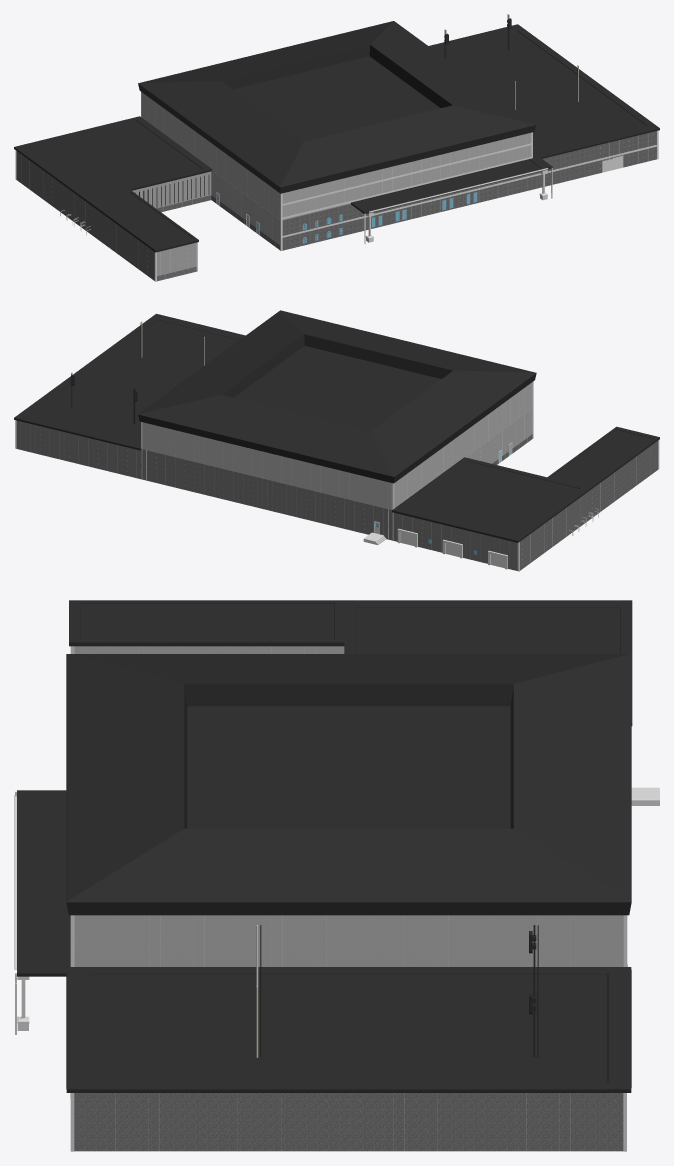
The model's file is superstore.lod0.glb.
The picture shows the model from 3 angles, top to bottom: view 1: azimuth 30°, elevation 25°; view 2: azimuth 150°, elevation 25°; view 3: azimuth 270°, elevation 25°; orthographic projection. The views are drawn at different scales.
Parts seen in each view (by area): view 1: Object_21, Object_5, Object_2, Object_8, Object_3, Object_17; view 2: Object_21, Object_2, Object_5, Object_17, Object_8; view 3: Object_21, Object_2, Object_5, Object_8.
Part boxes in pixels (x1,y1,x2,y2): Object_21: [14, 14, 659, 252]; Object_5: [132, 92, 531, 276]; Object_2: [16, 131, 656, 281]; Object_8: [15, 81, 658, 281]; Object_3: [217, 192, 477, 243]; Object_17: [60, 155, 623, 235]; Object_21: [14, 310, 659, 542]; Object_2: [17, 420, 658, 570]; Object_5: [142, 382, 532, 509]; Object_17: [363, 442, 598, 569]; Object_8: [15, 337, 659, 571]; Object_21: [17, 600, 632, 1092]; Object_2: [74, 1093, 623, 1151]; Object_5: [74, 646, 623, 966]; Object_8: [14, 646, 627, 1151].
Size of the model in its own units: 150 by 21.46 by 83.09.
7 materials, 2 textured.
